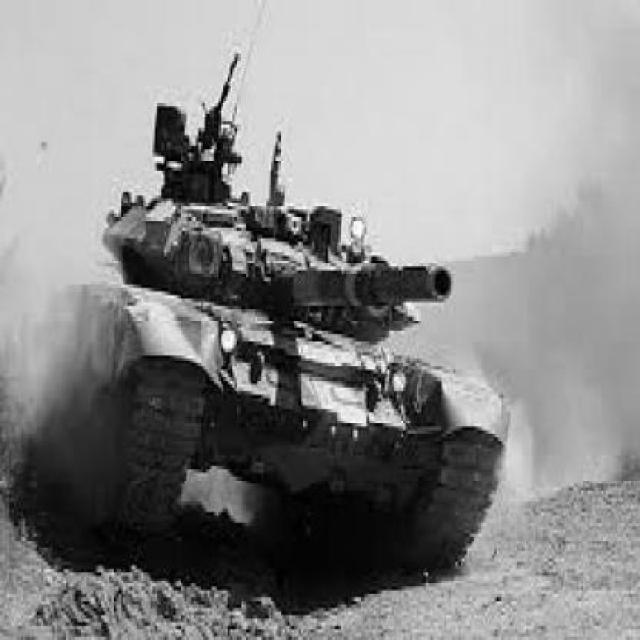Tank: (44, 49, 512, 575)
